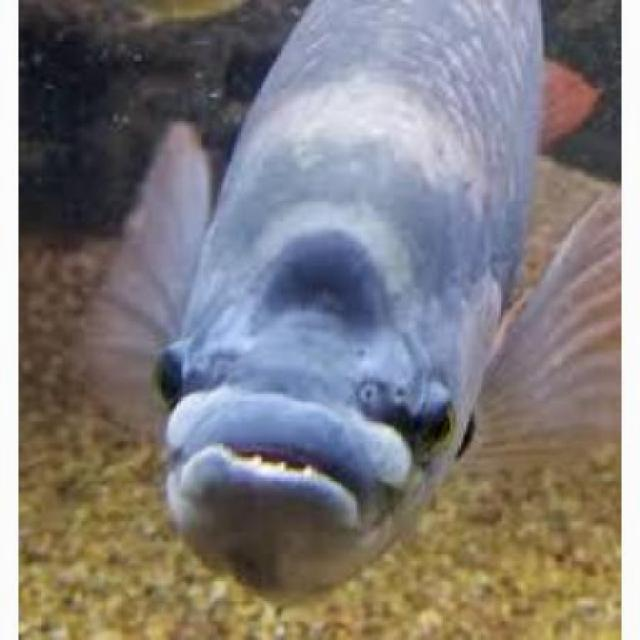gurame: (124, 0, 620, 603)
